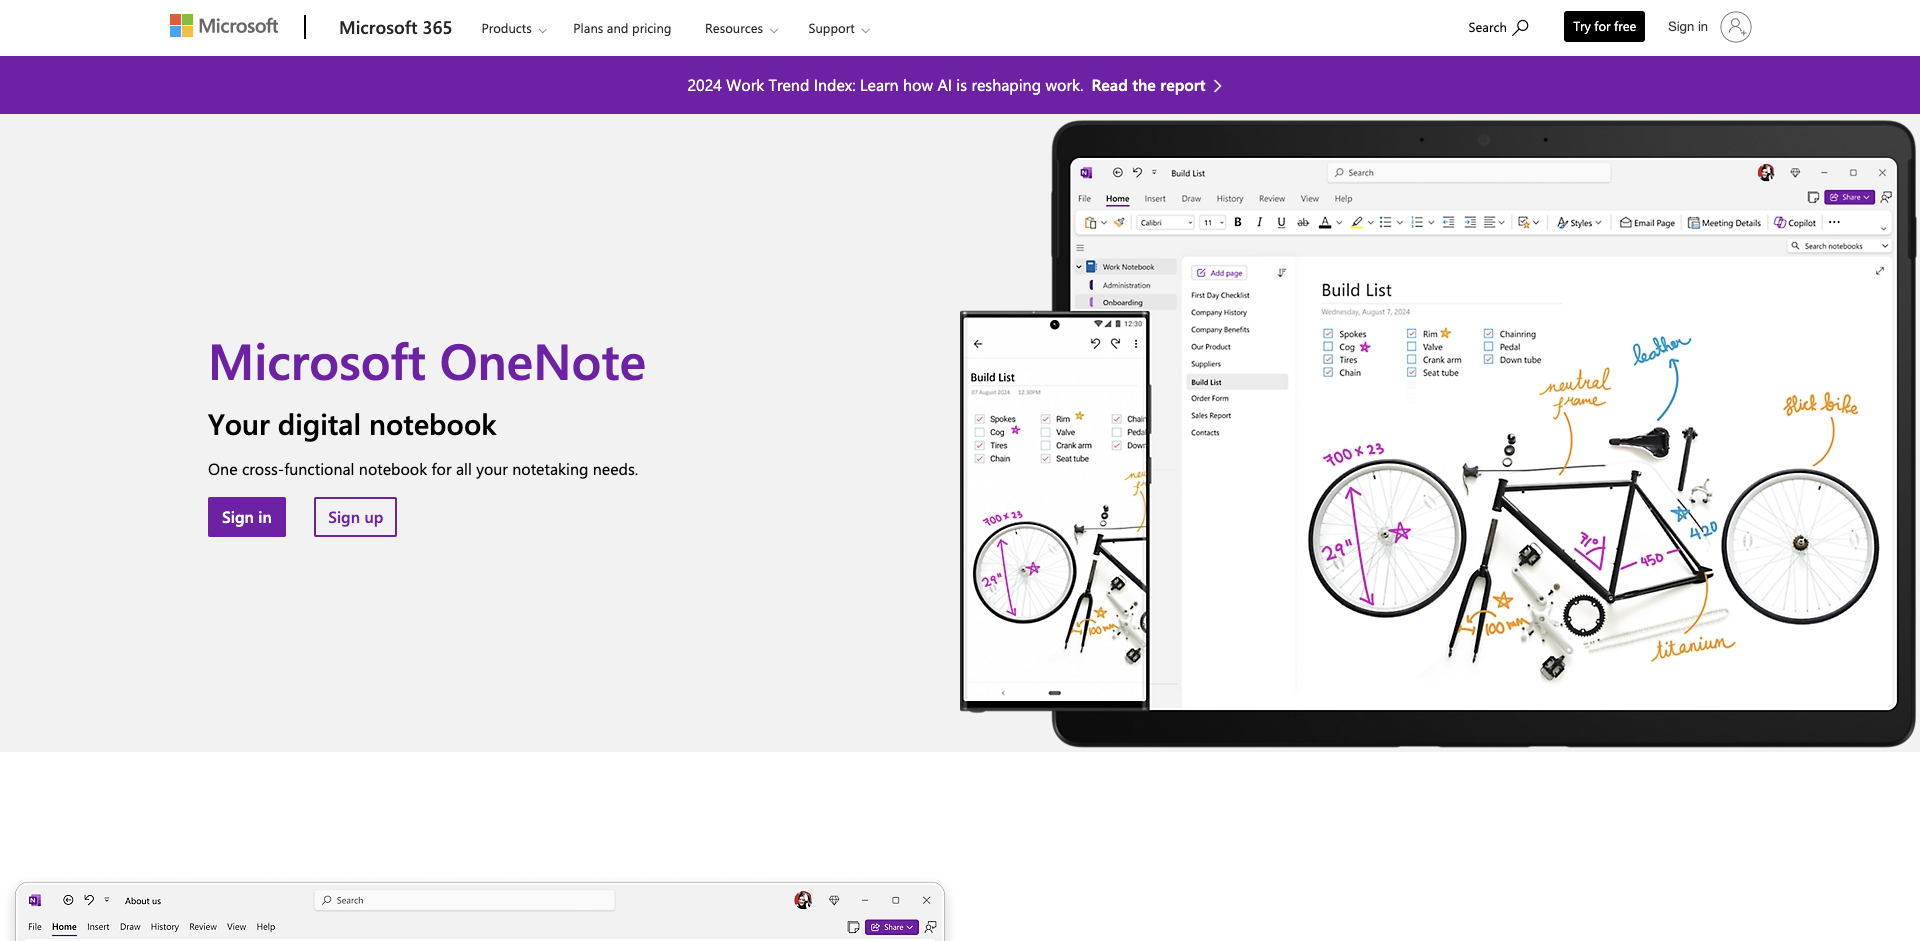button: (688, 1, 793, 54), (464, 1, 563, 54), (791, 1, 885, 54), (1460, 2, 1537, 48), (315, 496, 398, 537), (208, 496, 285, 537)
link: (160, 1, 298, 55), (329, 1, 463, 55), (564, 1, 681, 49), (1657, 2, 1760, 51), (1091, 74, 1233, 97), (1564, 11, 1646, 42)
menu_item: (561, 0, 684, 49), (688, 0, 789, 54), (464, 0, 557, 54), (791, 0, 879, 54), (1554, 0, 1656, 43)
